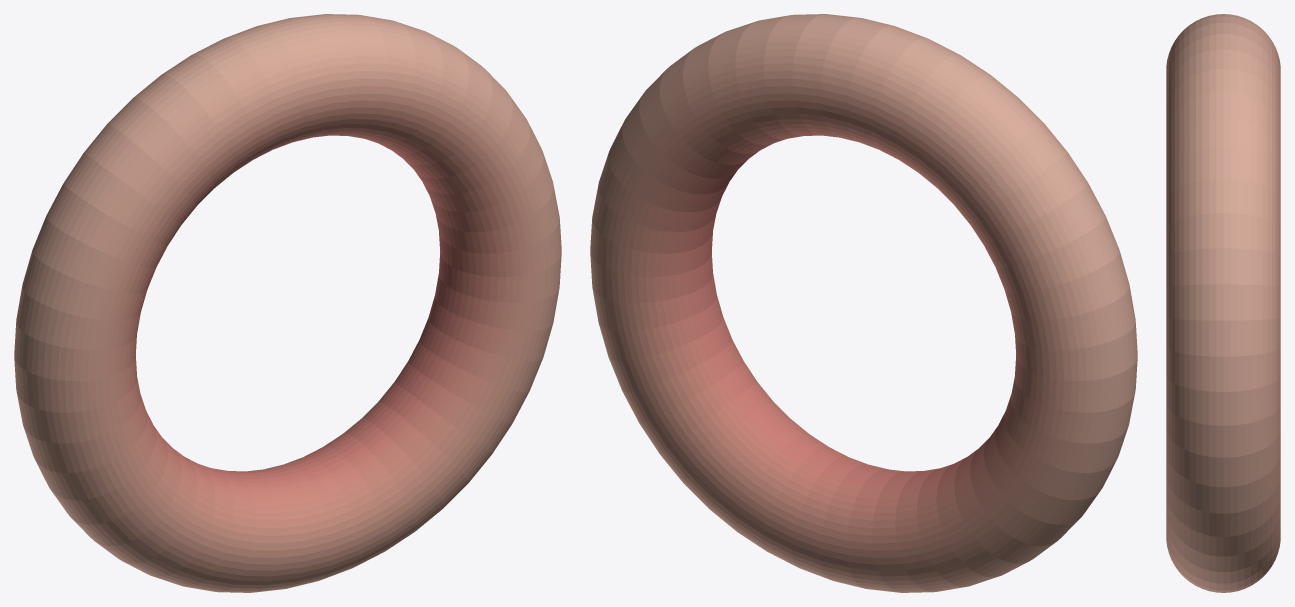
The picture shows the model from 3 angles, left to right: view 1: azimuth 30°, elevation 25°; view 2: azimuth 150°, elevation 25°; view 3: azimuth 270°, elevation 25°; orthographic projection. The views are drawn at different scales.
Parts seen in each view (by area): view 1: world; view 2: world; view 3: world.
Part boxes in pixels (x1=…): world: x1=14, y1=14, x2=561, y2=592; world: x1=590, y1=14, x2=1137, y2=592; world: x1=1166, y1=14, x2=1280, y2=592.
Size of the model in its own units: 31.6 by 31.54 by 6.25.
